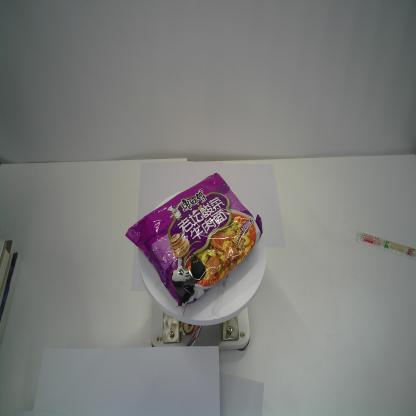Instant Noodles: (124, 172, 264, 307)
